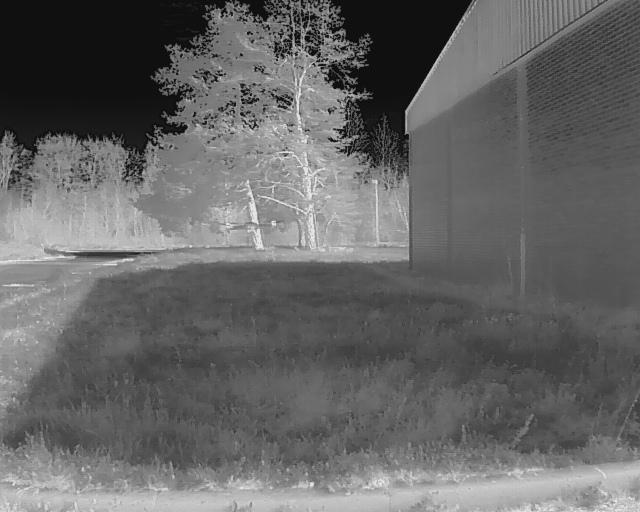drone: (216, 208, 284, 254)
